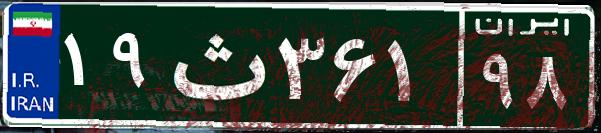1: (385, 28, 445, 110), (57, 26, 110, 107)
3: (273, 28, 330, 110)
6: (330, 28, 385, 110)
8: (525, 38, 570, 115)
9: (475, 38, 525, 113), (110, 28, 158, 105)
ث: (158, 15, 273, 115)
